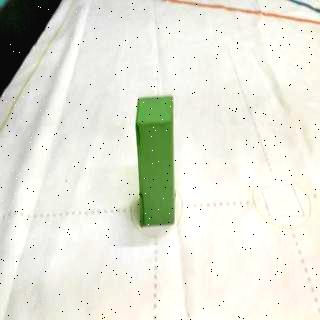greenbox: (134, 94, 178, 226)
